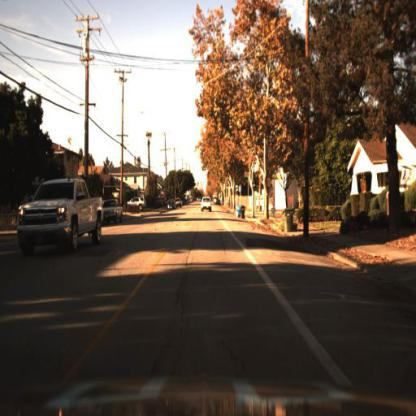car: (18, 178, 104, 262), (101, 198, 124, 229), (126, 194, 150, 213), (201, 197, 214, 213), (165, 199, 177, 216)
